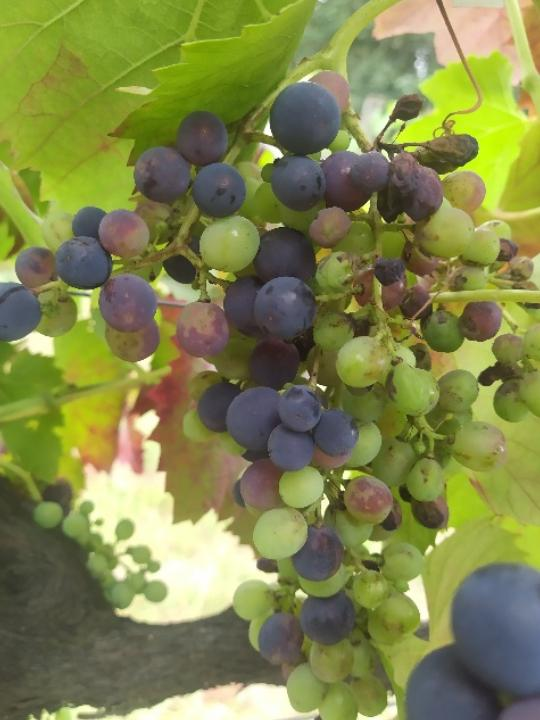grape: (0, 64, 540, 720)
